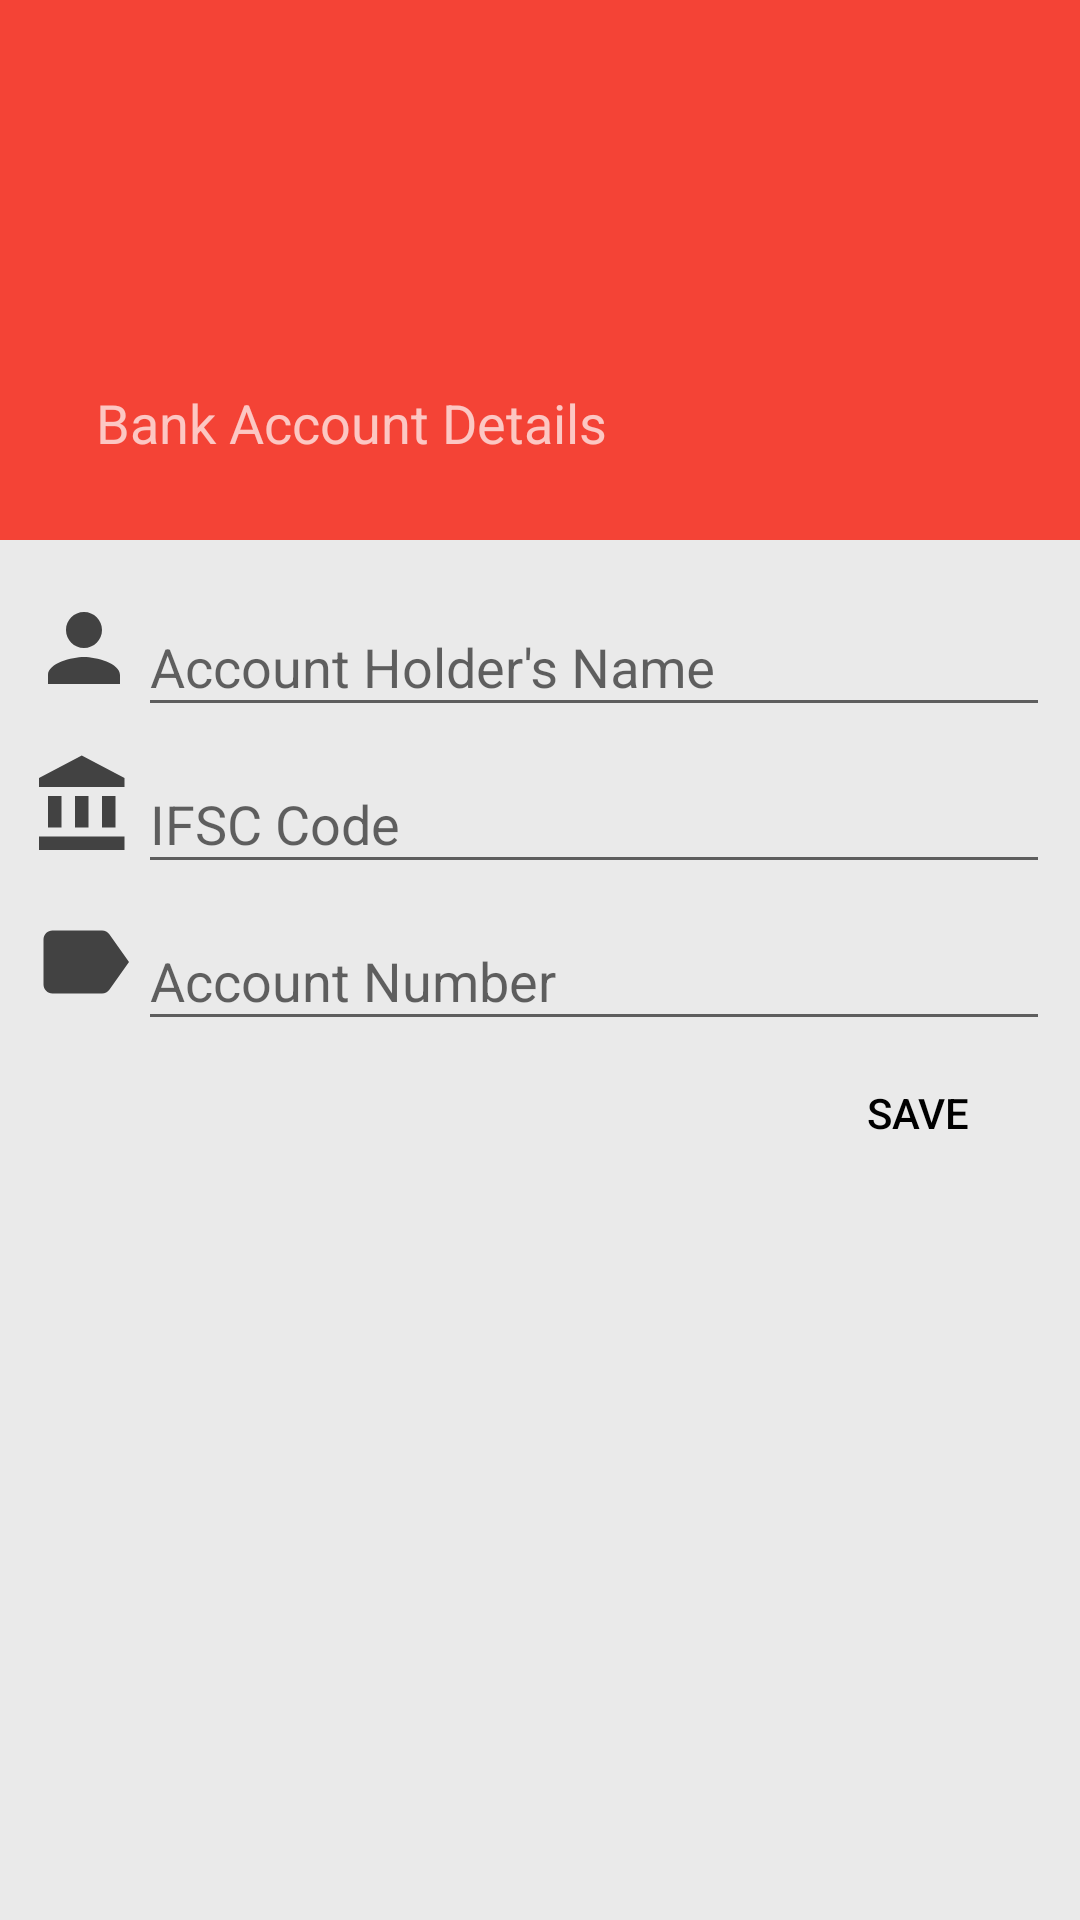

Where to tap for icons on this 1080*1920 app screen, as (x=x, y=y):
acc holder ifsc: (x=82, y=802)
acc holder name: (x=84, y=648)
